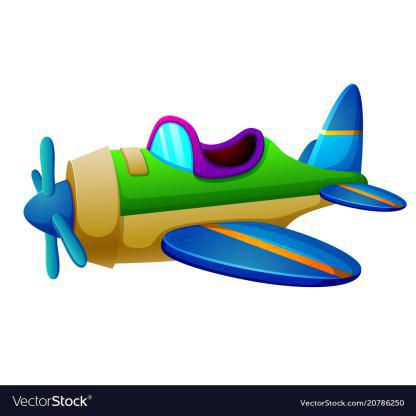CIV_Plane: (14, 82, 408, 290)
